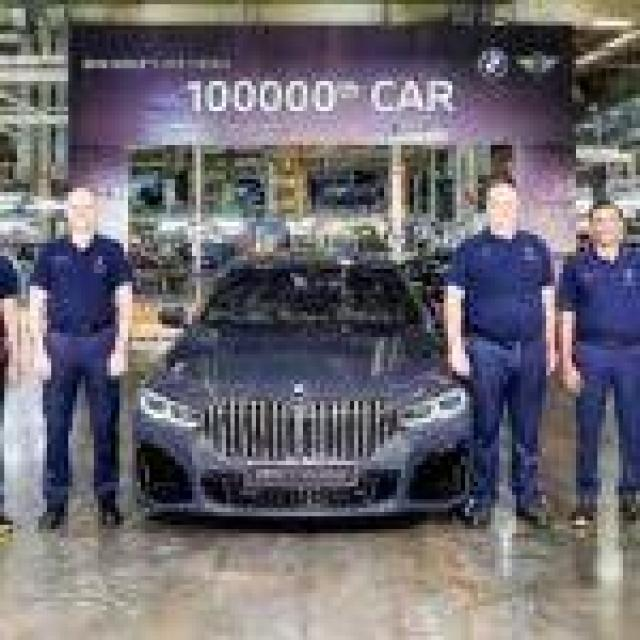car: (136, 246, 466, 524)
person: (446, 177, 556, 540), (27, 185, 132, 527), (559, 196, 640, 534)
